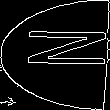N_E: (4, 34, 106, 76)
